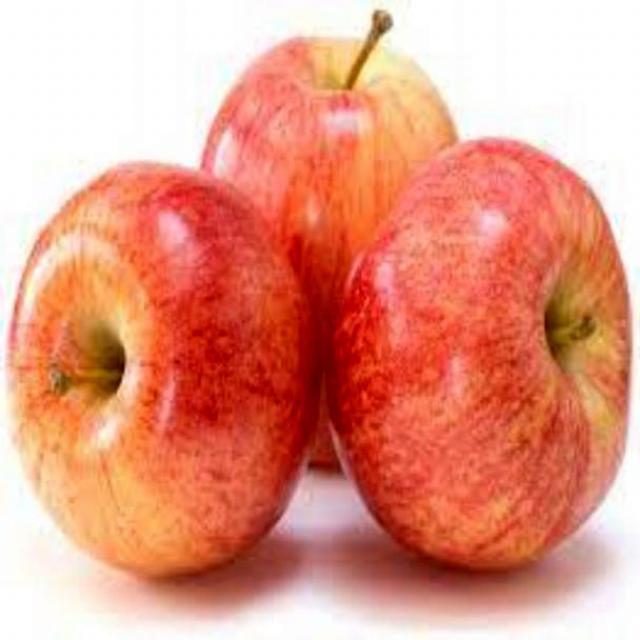HEALTHY: (325, 120, 626, 589), (0, 141, 292, 581)
